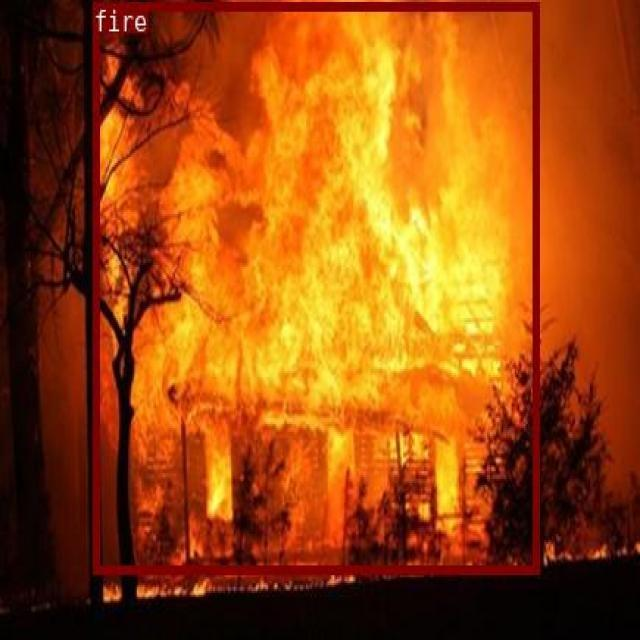fire: (92, 1, 538, 573)
